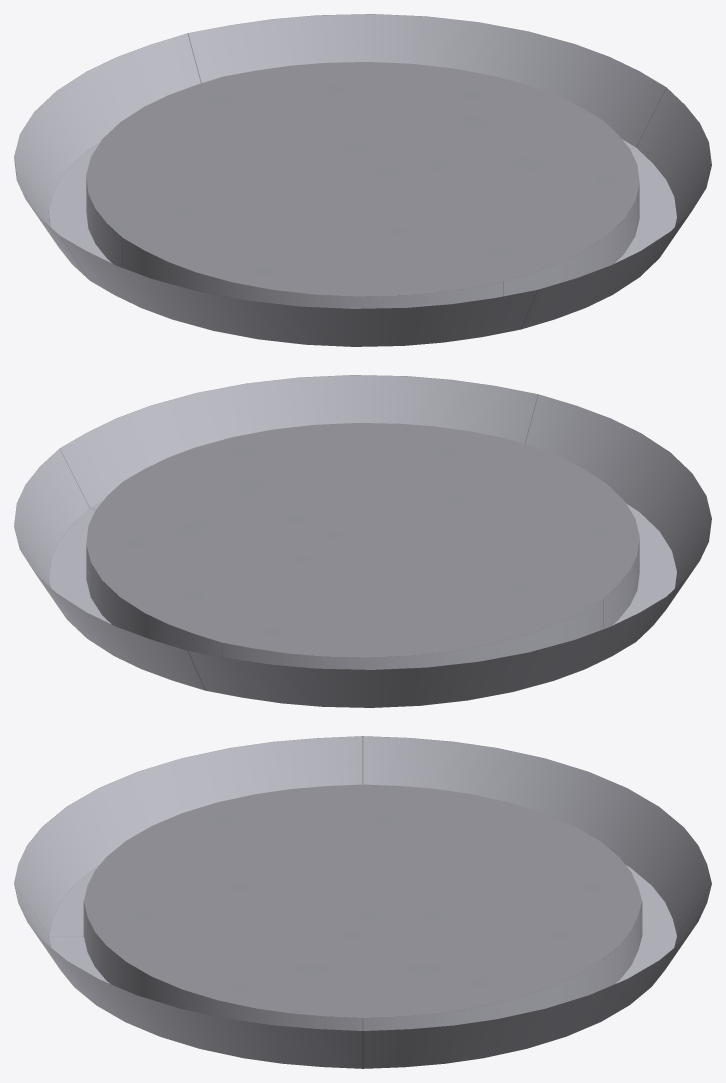
File: Fan_01.FBX
The picture shows the model from 3 angles, top to bottom: view 1: azimuth 30°, elevation 25°; view 2: azimuth 150°, elevation 25°; view 3: azimuth 270°, elevation 25°; orthographic projection.
Parts seen in each view (by area): view 1: Fan_Support_01; view 2: Fan_Support_01; view 3: Fan_Support_01.
Boxes of the visible parts, x1=… form: Fan_Support_01: x1=14, y1=14, x2=711, y2=346; Fan_Support_01: x1=14, y1=375, x2=711, y2=707; Fan_Support_01: x1=14, y1=736, x2=711, y2=1068.
Bounding box in the file's own units: 1.5 × 0.152 × 1.5.
Materials: 1 (1 with a texture image).
